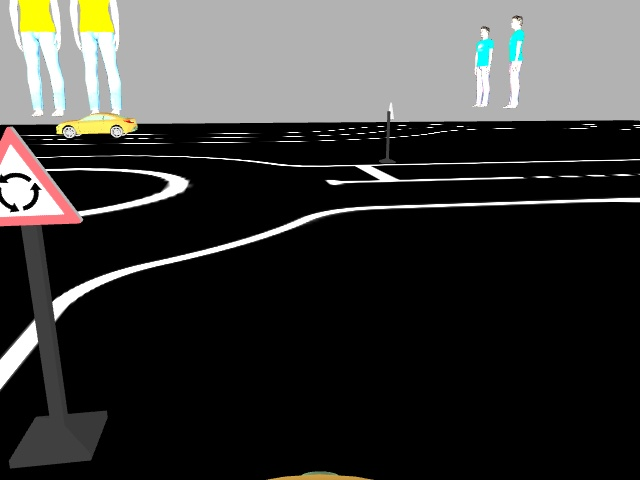Roundabout: (0, 124, 86, 224)
